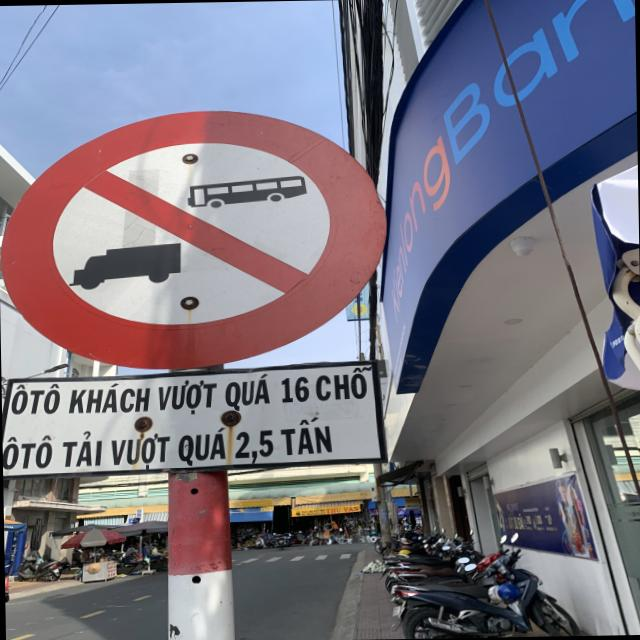Cam_XeTai_XeKhach: (0, 101, 390, 371)
